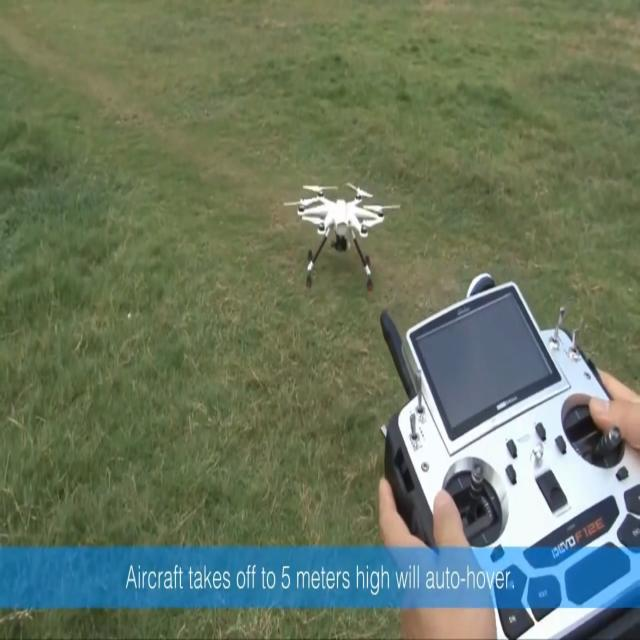drone: (283, 180, 400, 292)
